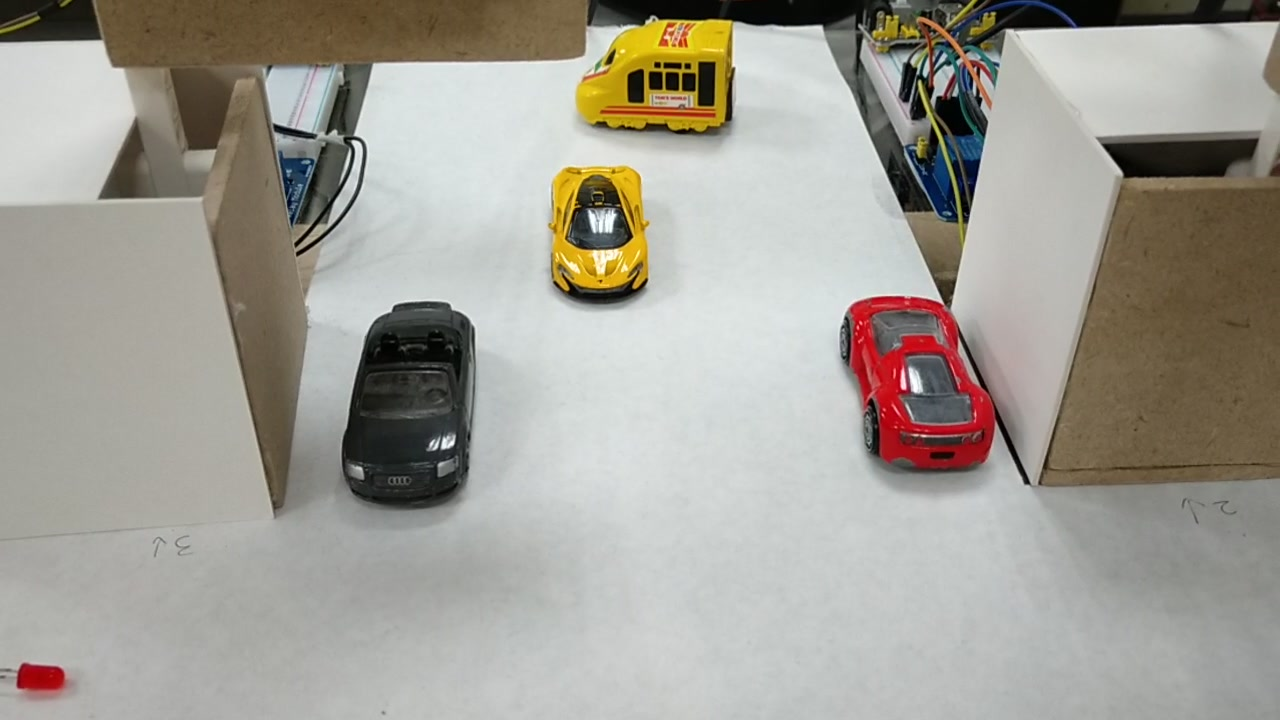car: (340, 309, 480, 503), (846, 289, 996, 466), (555, 163, 646, 289)
